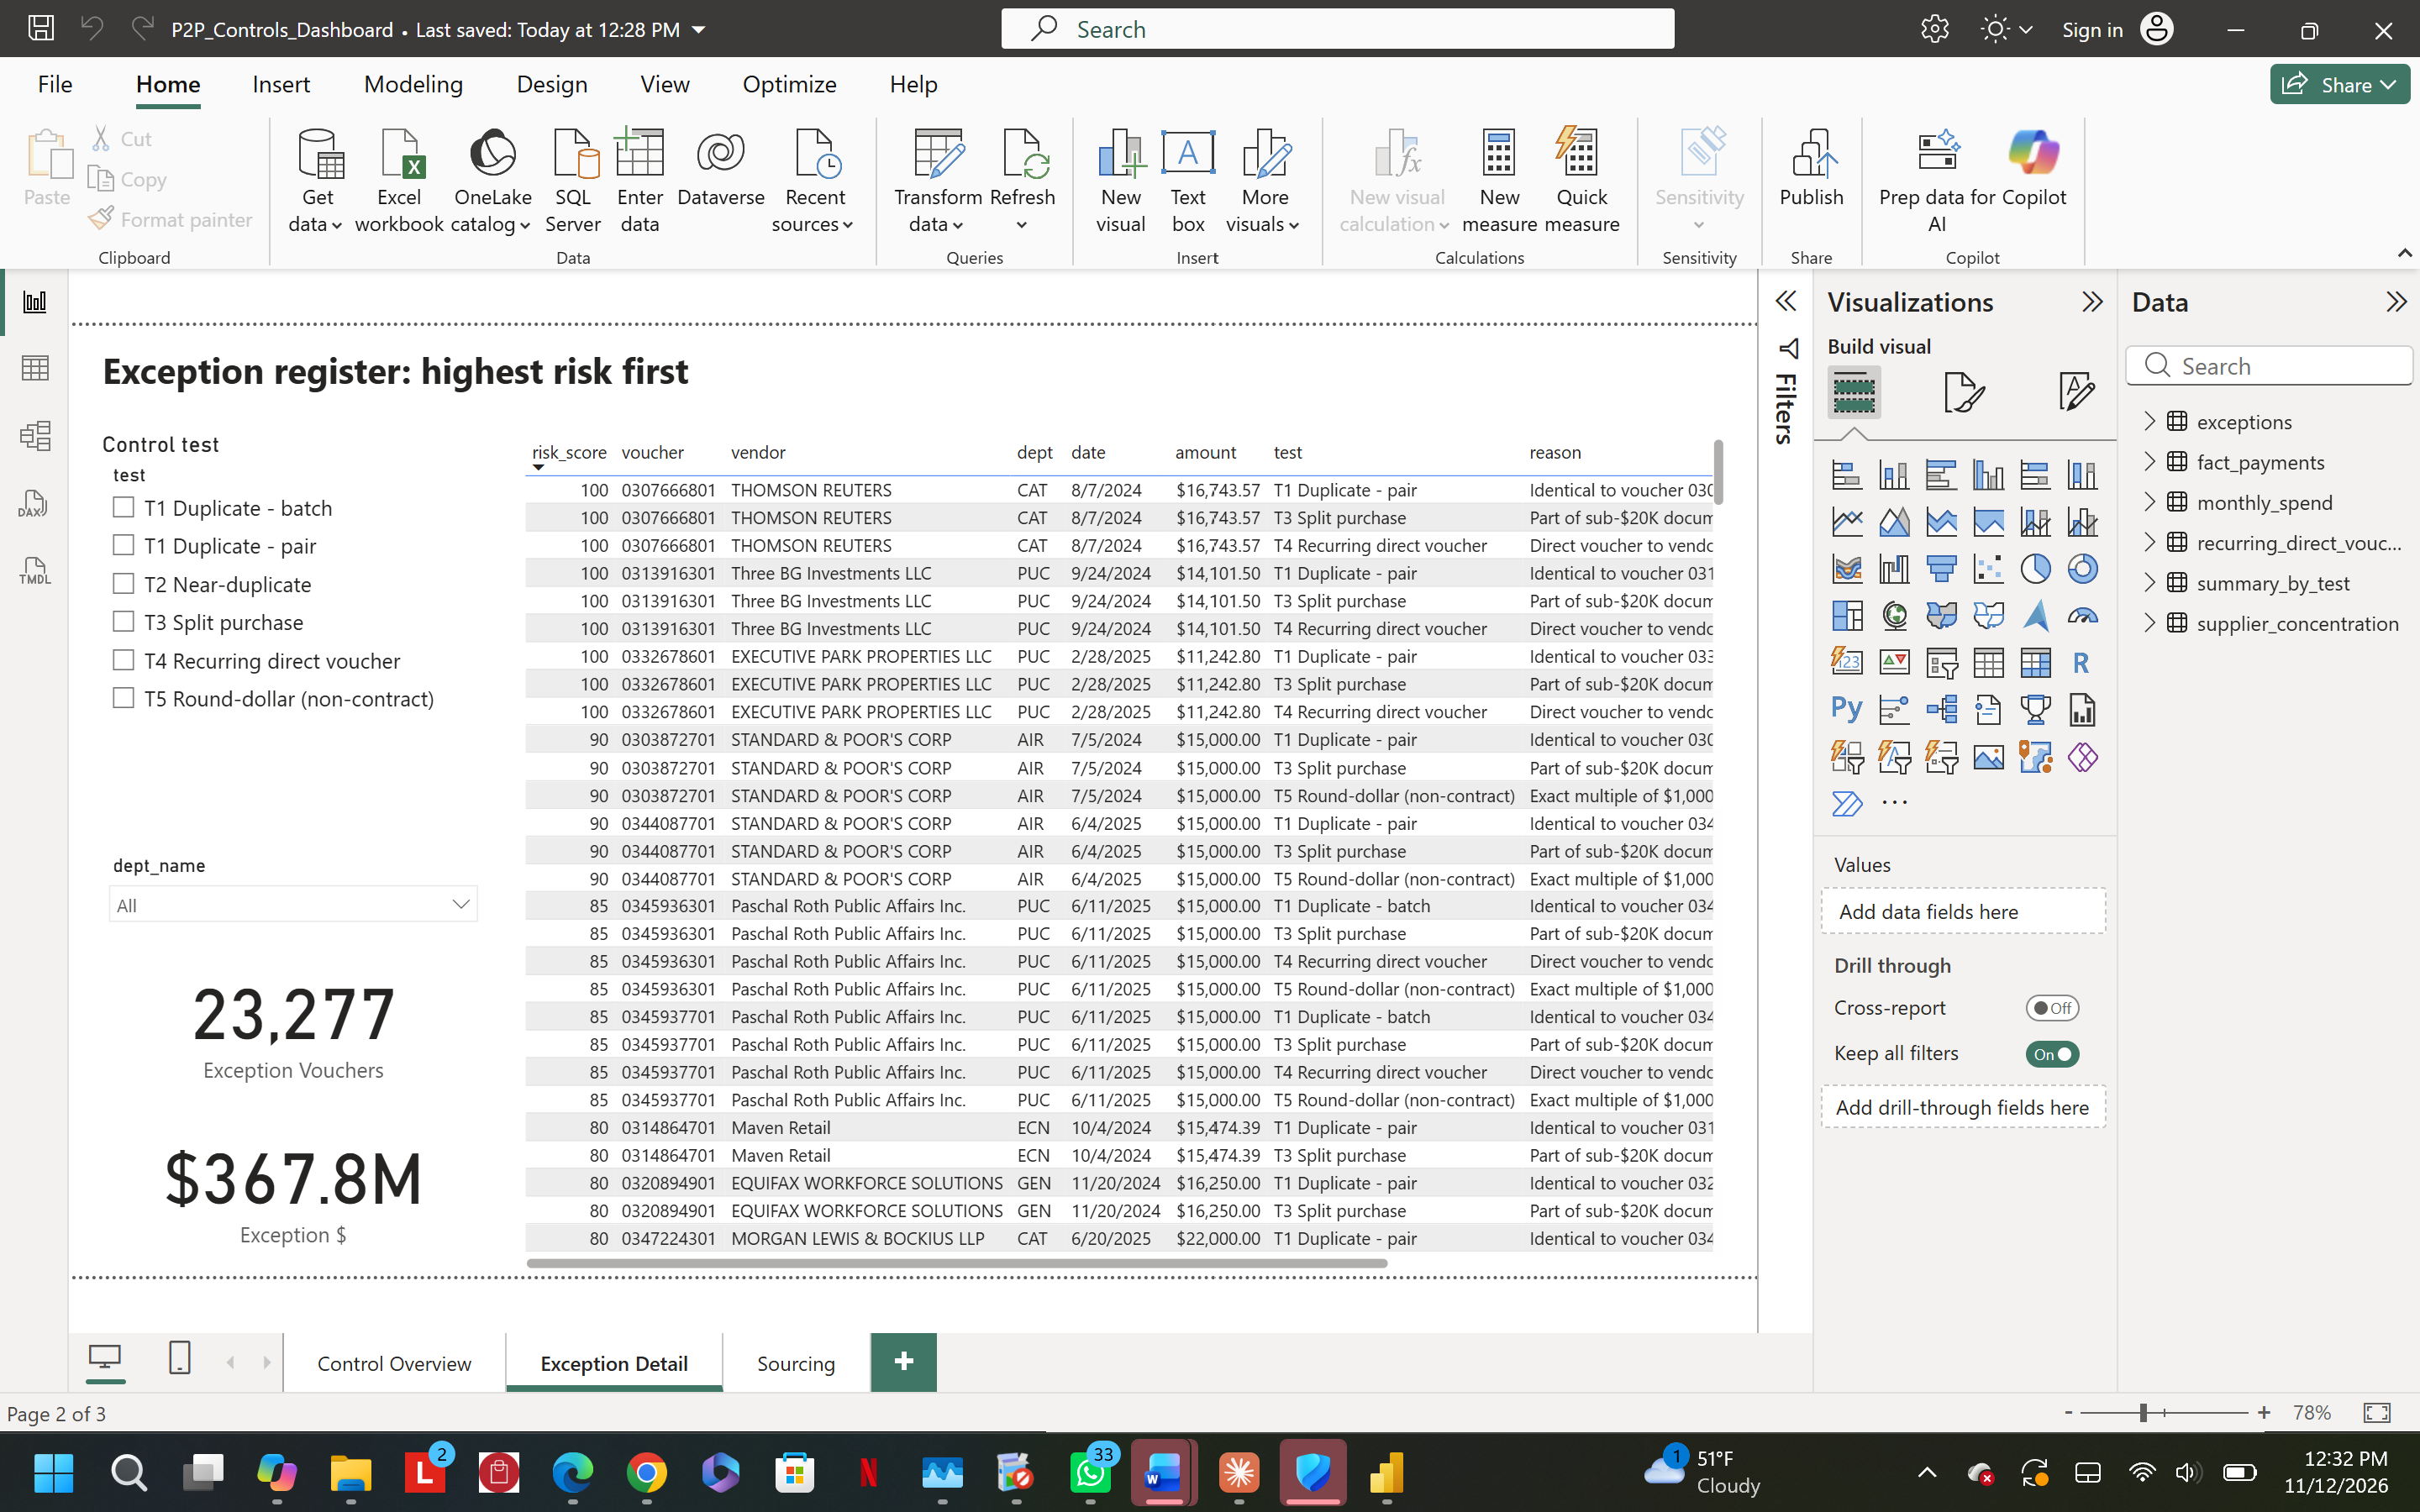

This screenshot's page, from the dashboard's own definition file:
{"tool":"powerbi","page":{"name":"Exception Detail","canvas":[1280,720],"ordinal":1},"visuals":[{"type":"textbox","box":[20,10,900,55],"z":0},{"type":"slicer","title":"Control test","fields":{"Values":["exceptions.test"]},"box":[20,80,300,300],"z":1000},{"type":"slicer","fields":{"Values":["exceptions.dept_name"]},"box":[20,395,300,60],"z":2000},{"type":"card","fields":{"Values":["exceptions.Exception Vouchers"]},"box":[20,470,300,110],"z":3000},{"type":"card","fields":{"Values":["exceptions.Exception $"]},"box":[20,595,300,110],"z":4000},{"type":"tableEx","fields":{"Values":["exceptions.risk_score","exceptions.voucher","exceptions.vendor","exceptions.dept","exceptions.date","exceptions.amount","exceptions.test","exceptions.reason"]},"box":[340,80,920,640],"z":5000}]}

Visuals, with their boxes on the page's 1280x720 design canvas (x1, y1, x2, y2). These are canvas units, not pixel positions in the 2420x1512 screenshot, which may show the page scaled, cropped or inside an application window:
textbox: 20/10/920/65
"Control test" slicer: 20/80/320/380
slicer - exceptions.dept_name: 20/395/320/455
card - exceptions.Exception Vouchers: 20/470/320/580
card - exceptions.Exception $: 20/595/320/705
tableEx - exceptions.risk_score x exceptions.voucher: 340/80/1260/720
